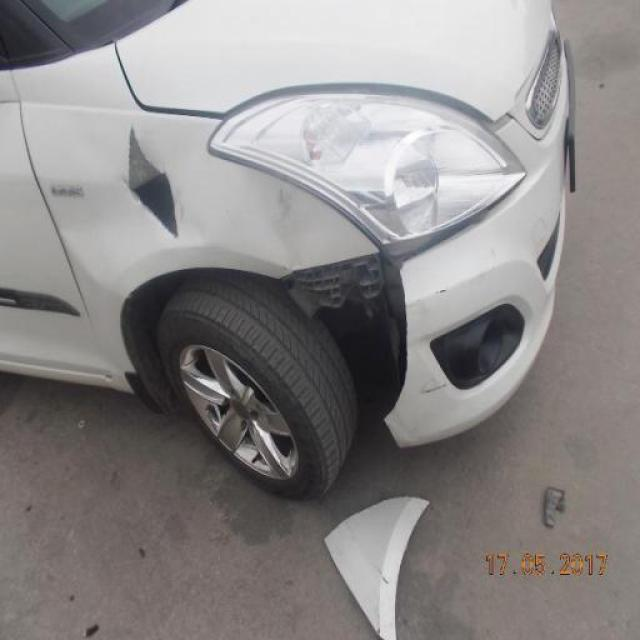missing: (285, 254, 410, 421)
tear: (125, 121, 180, 242)
